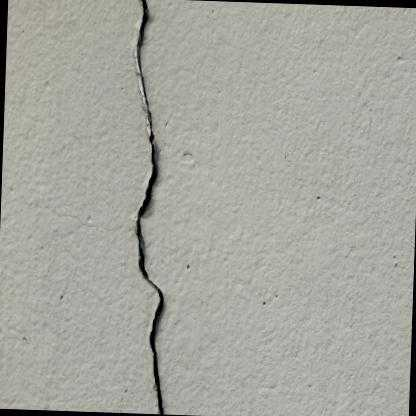crack: (135, 0, 163, 415)
